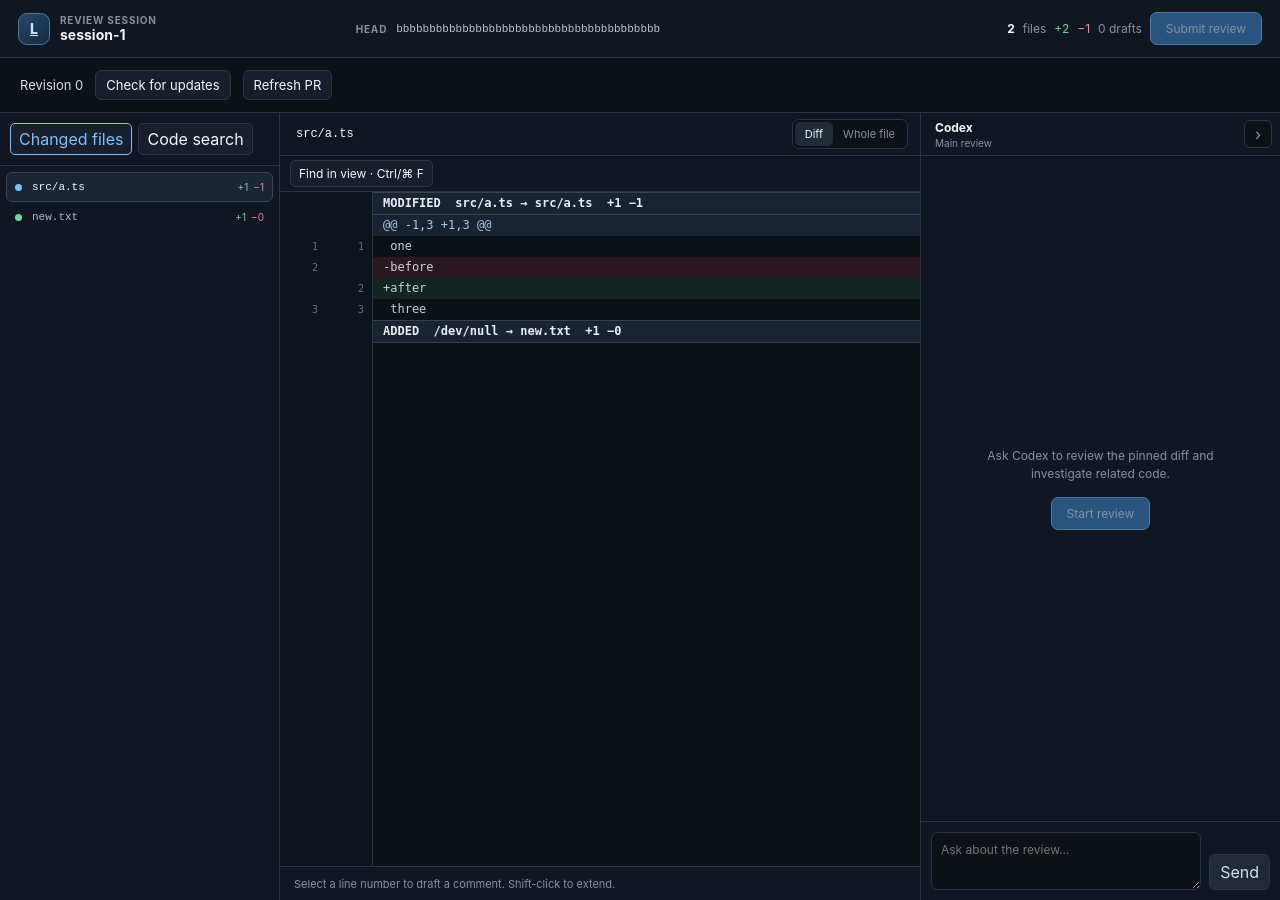
Test: ReviewPage › warns about a stale head, submits on confirmation, and shows the receipt
This screenshot has width=1280, height=900.
Click the button "Submit review".
click(1206, 28)  # box [1150,12,1262,45]
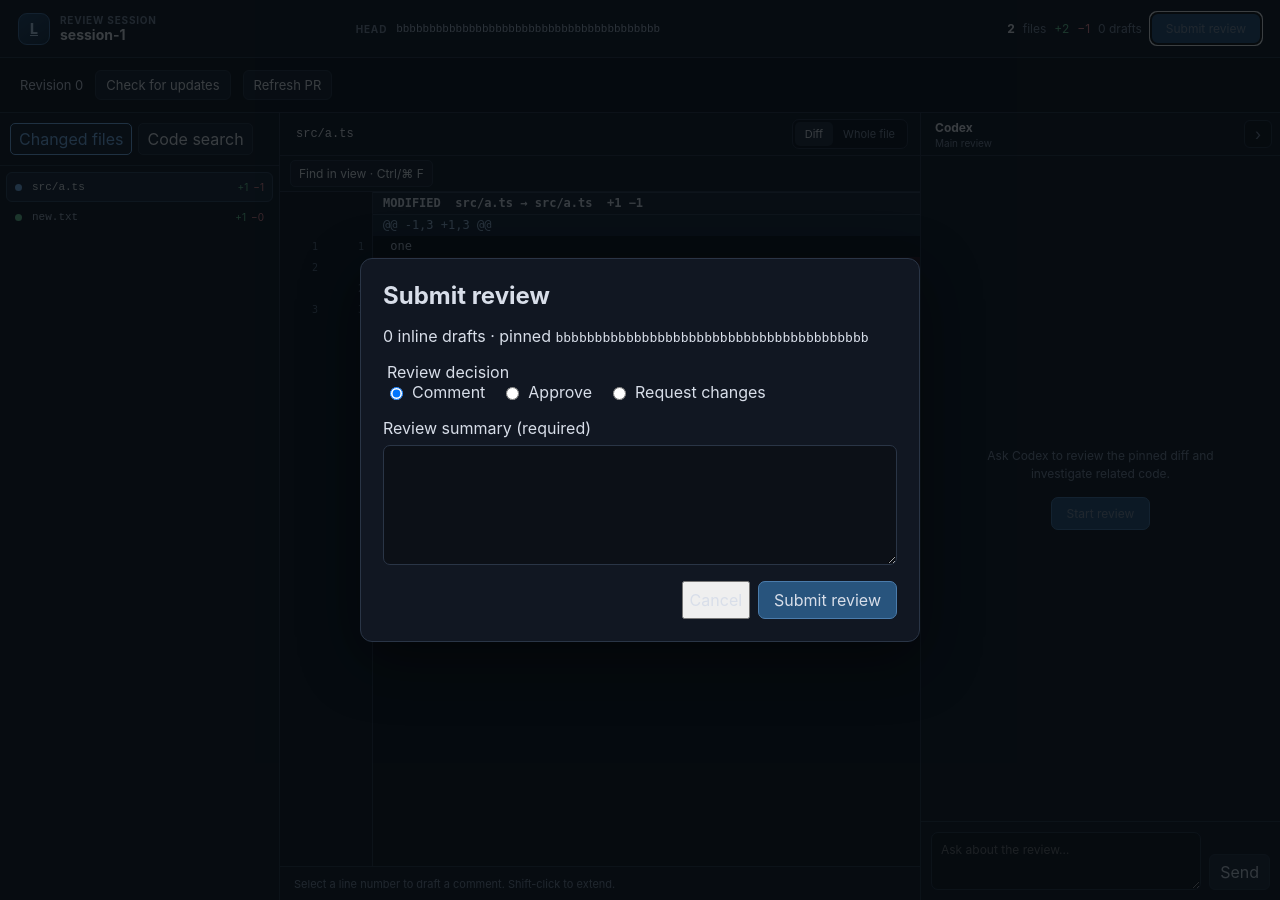
Type "Looks good overall" into the text box labelled "Review summary".
click(640, 505); type("Looks good overall")  # box [383,445,897,565]
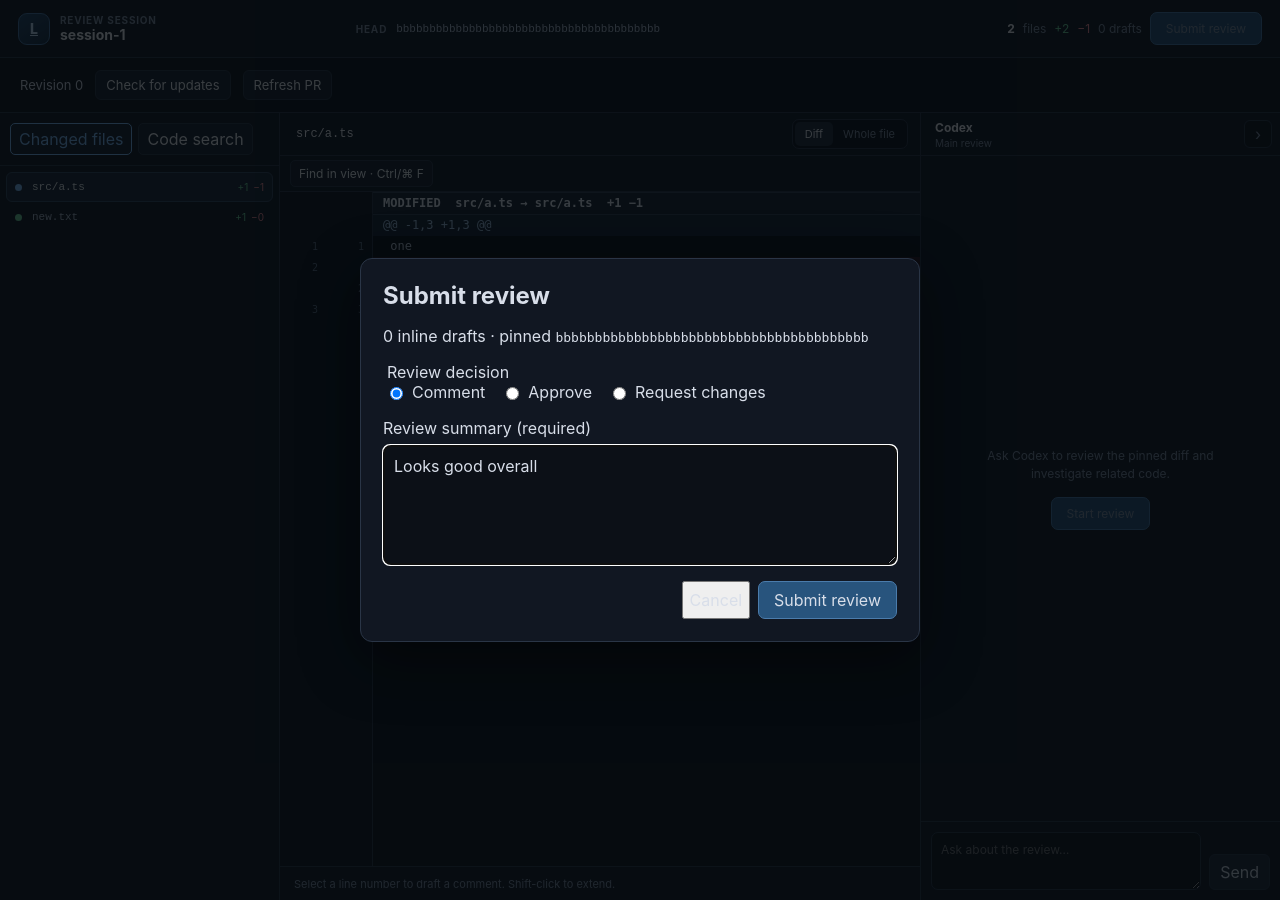
Click the button "Submit review".
click(828, 600)  # box [758,581,897,619]
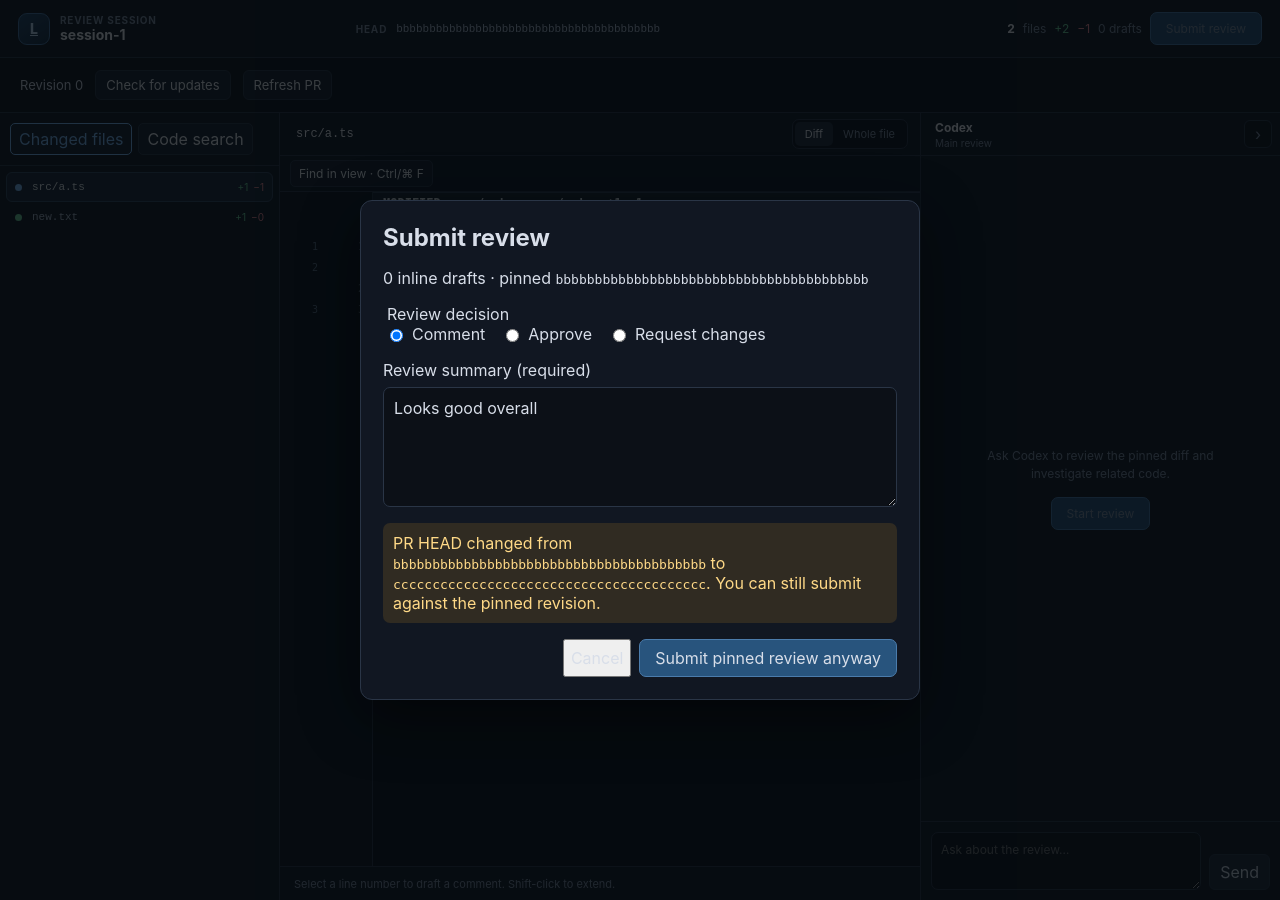
Expected: the text "PR HEAD changed" is shown, [393,533,572,553]
Click the button "Submit pinned review anyway".
click(768, 658)  # box [639,639,897,677]
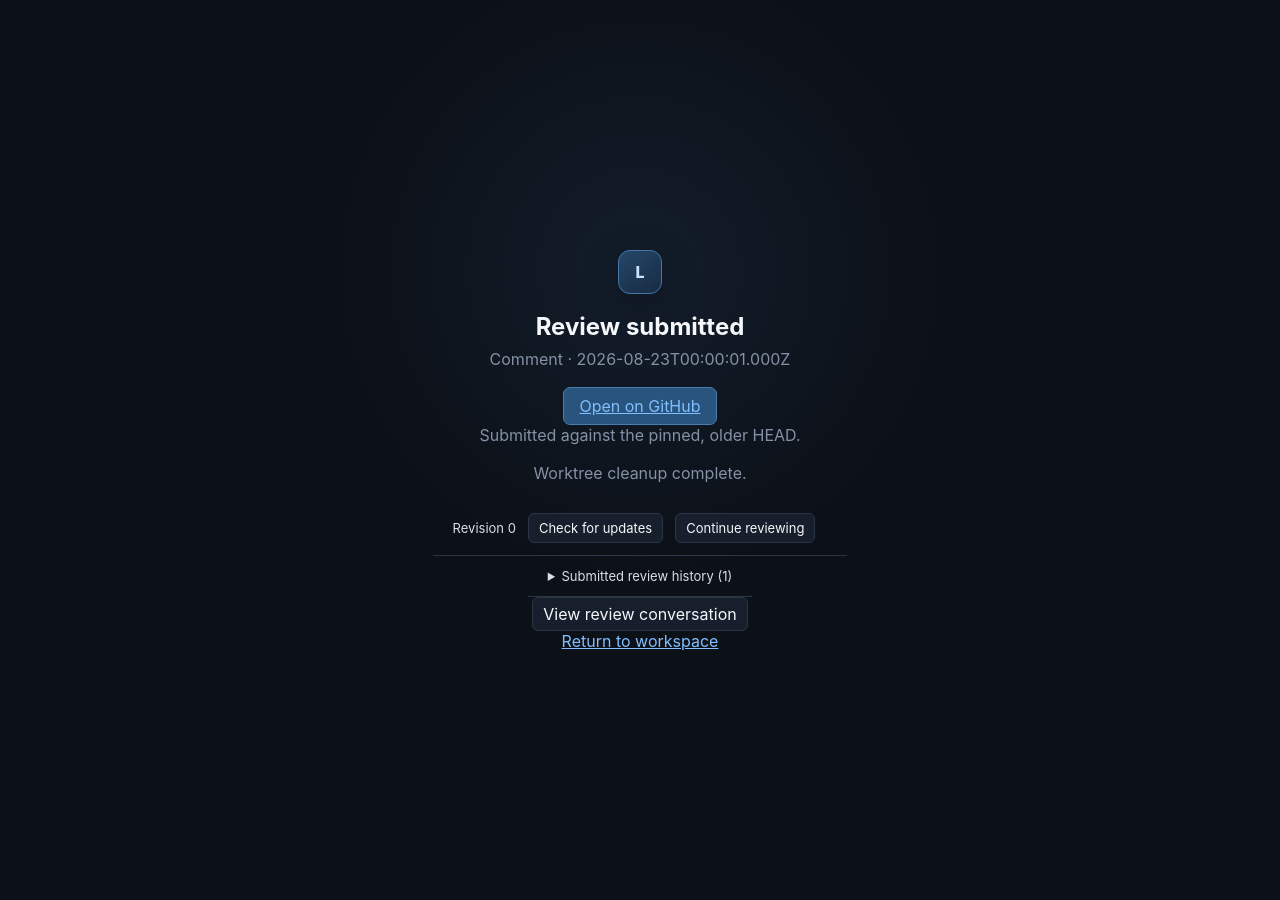
Expected: the heading "Review submitted" is shown, [536,312,744,340]
Expected: the link "Open on GitHub" is shown, [564,386,717,424]
